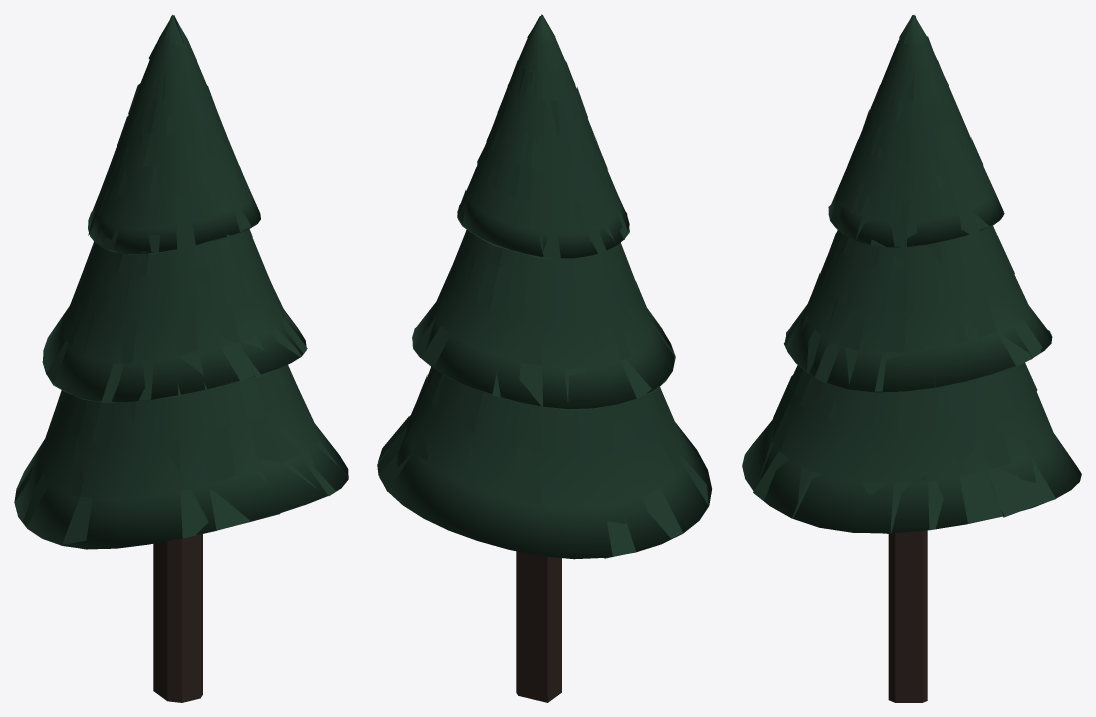
File: pine.fbx
The picture shows the model from 3 angles, left to right: view 1: azimuth 30°, elevation 25°; view 2: azimuth 150°, elevation 25°; view 3: azimuth 270°, elevation 25°; orthographic projection.
Parts seen in each view (by area): view 1: PineTree; view 2: PineTree; view 3: PineTree.
Boxes of the visible parts, x1,y1,x2,y2 form: PineTree: (14,14,348,702); PineTree: (377,14,711,702); PineTree: (742,15,1081,702).
Size of the model in its own units: 111 by 253 by 115.
